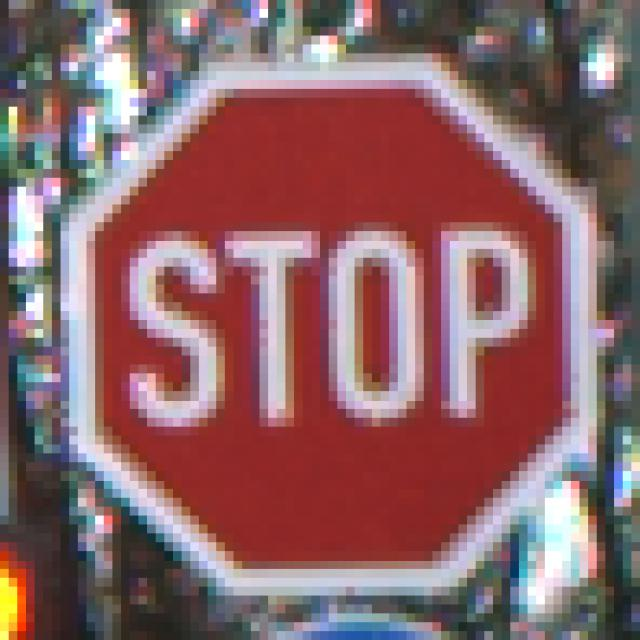STOP: (62, 54, 589, 588)
